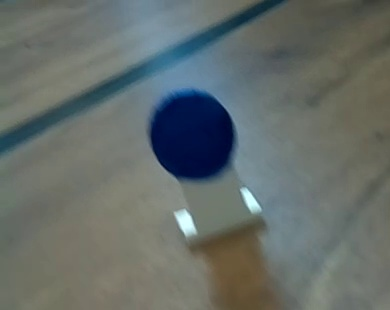circle: (134, 80, 274, 252)
